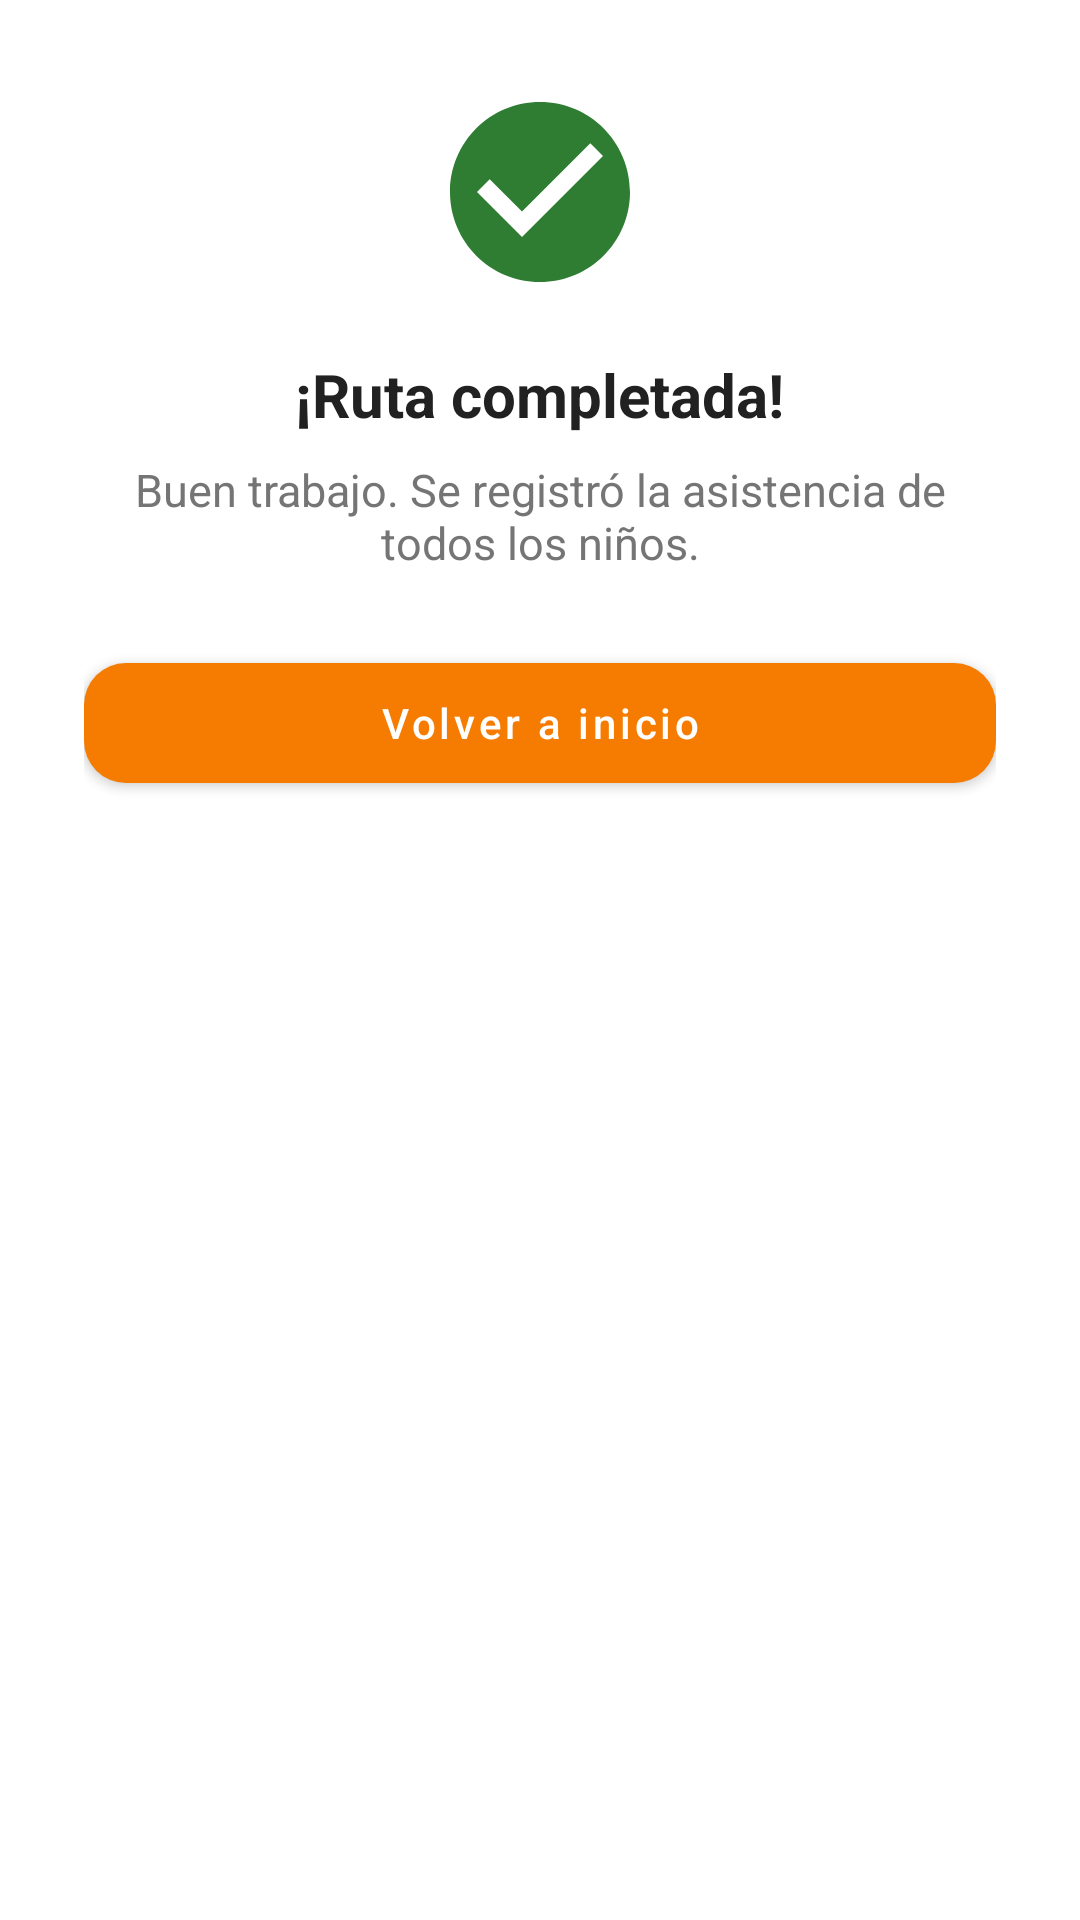

Where to tap for icons on this 1080px x 1920px app screen, as point (x, y):
check circle: point (540, 192)
